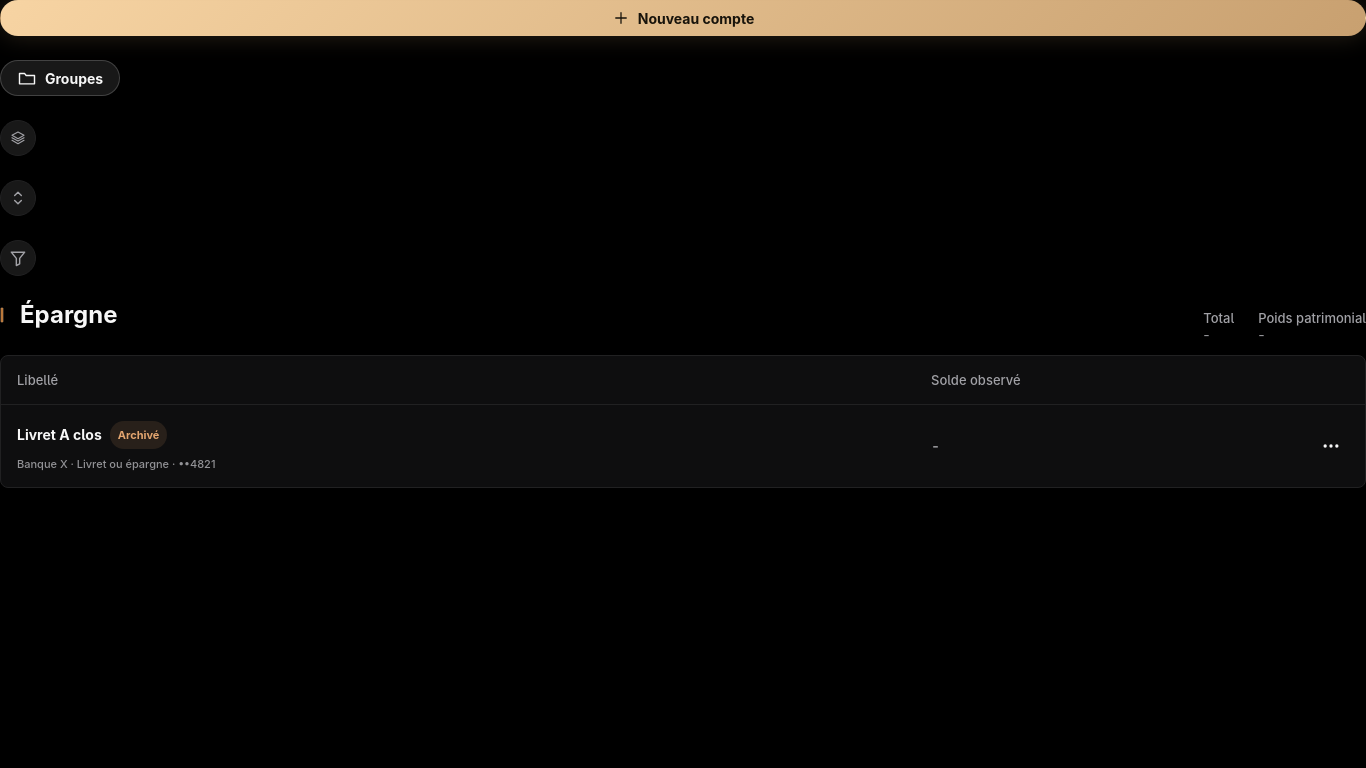
Test: AccountsPage › reads the dated rules of an account, including one that is archived
This screenshot has width=1366, height=768.
Click the button named "Actions du compte Livret A clos". click: (1331, 446)
box: [1313,428,1349,464]
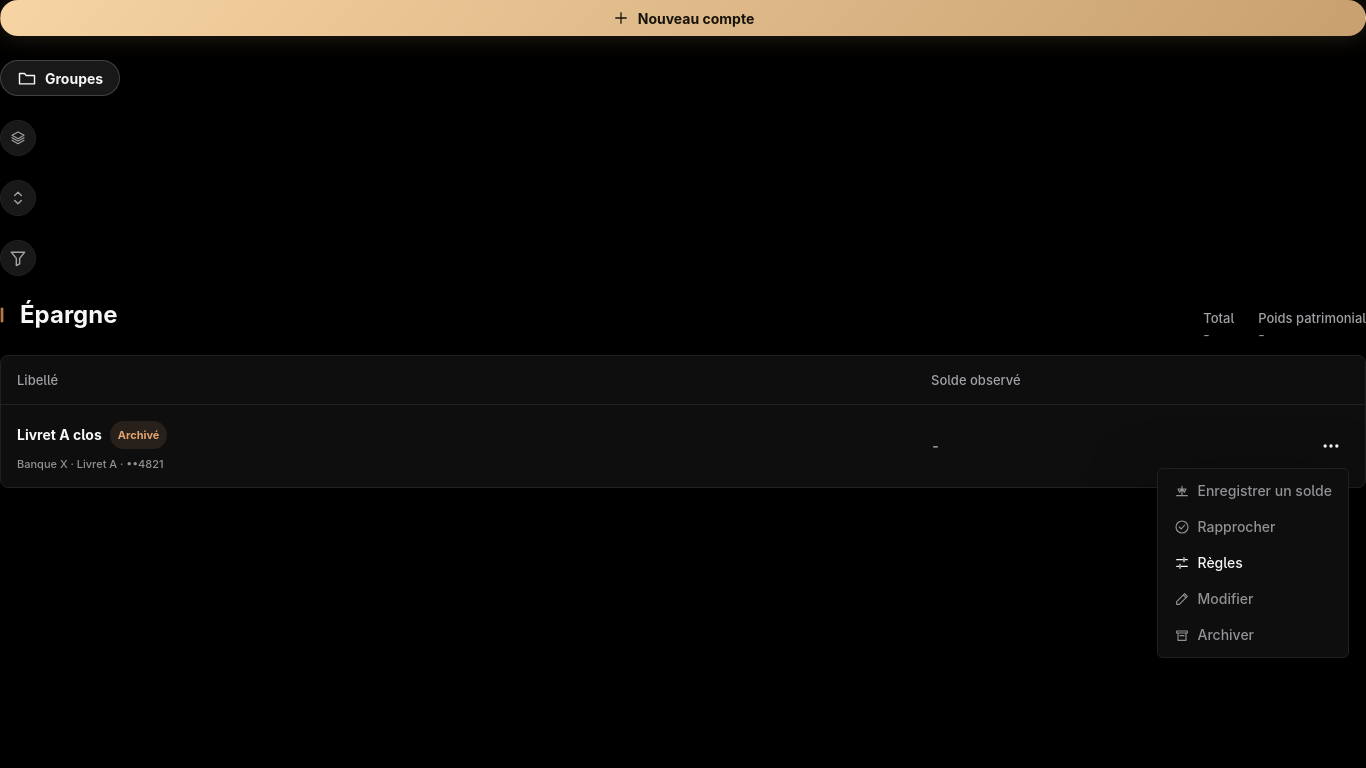
Now the button with aria-label "Modifier le compte Livret A clos" is disabled, box [1162,580,1344,616]
Now the button with aria-label "Règles applicables au compte Livret A clos" is enabled
Click the button with aria-label "Règles applicables au compte Livret A clos". click: (1253, 562)
box: [1162,544,1344,580]
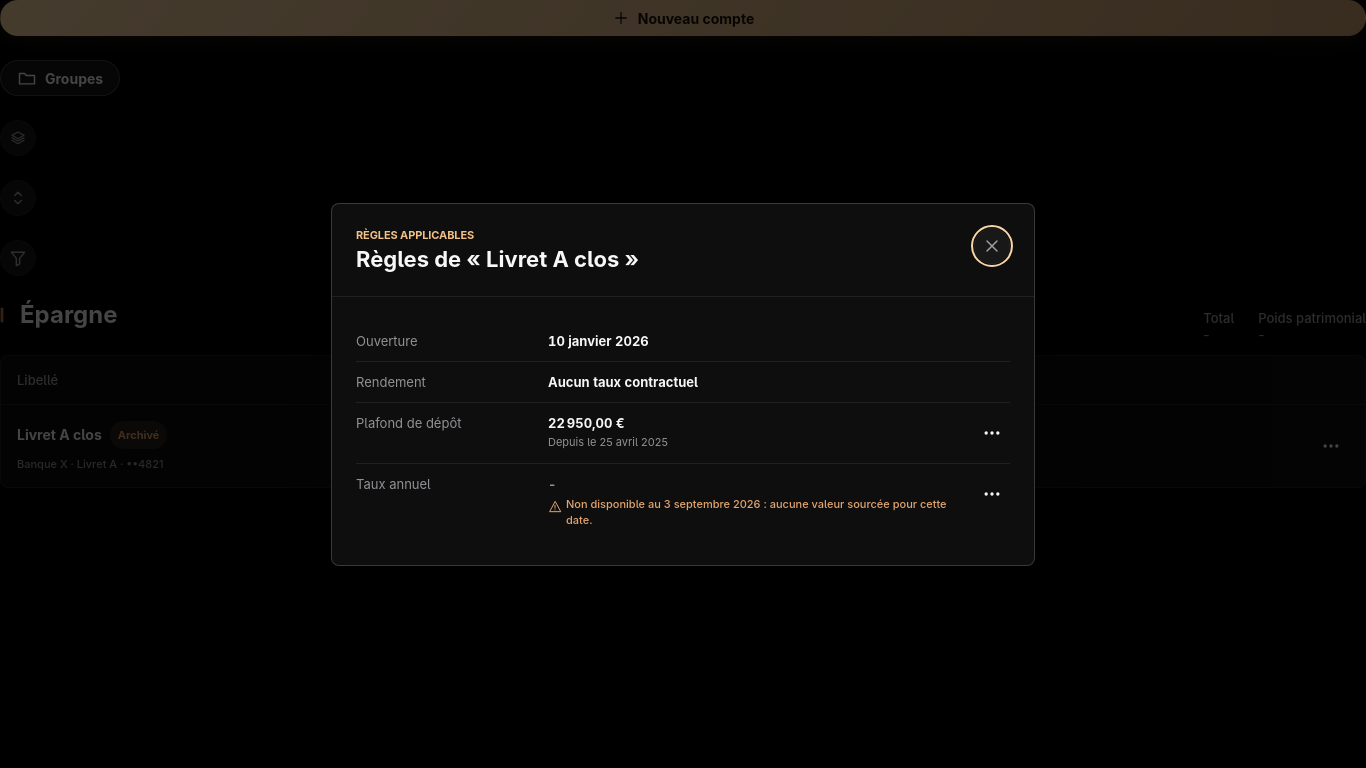
Now the dialog "Règles de « Livret A clos »" is shown, box [331,202,1035,566]
Now the text "22 950,00 €" is shown, box [548,414,625,430]
